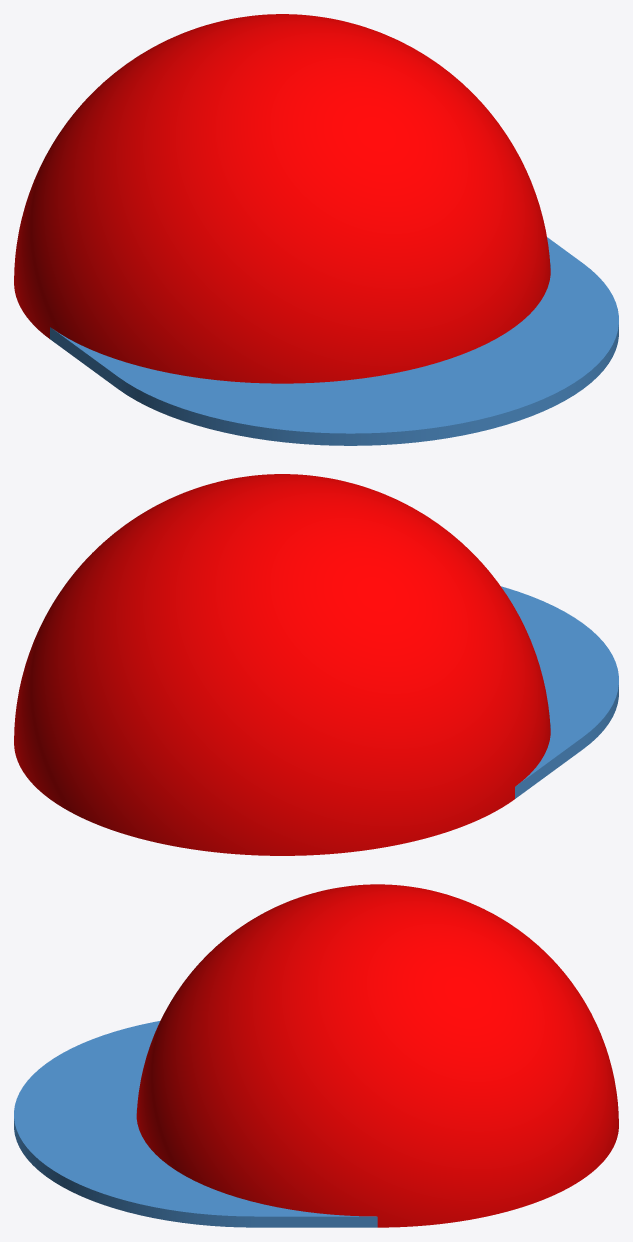
File: Red Cap.gltf
The picture shows the model from 3 angles, top to bottom: view 1: azimuth 30°, elevation 25°; view 2: azimuth 150°, elevation 25°; view 3: azimuth 270°, elevation 25°; orthographic projection. The views are drawn at different scales.
Parts seen in each view (by area): view 1: Body, Bill; view 2: Body, Bill; view 3: Body, Bill.
Boxes of the visible parts, bbox=[...] form: Body: bbox=[14, 14, 550, 383]; Bill: bbox=[50, 237, 618, 445]; Body: bbox=[14, 474, 550, 855]; Bill: bbox=[501, 586, 618, 798]; Body: bbox=[136, 884, 618, 1227]; Bill: bbox=[14, 1021, 377, 1227].
Size of the model in its own units: 1 by 0.5 by 1.25.
